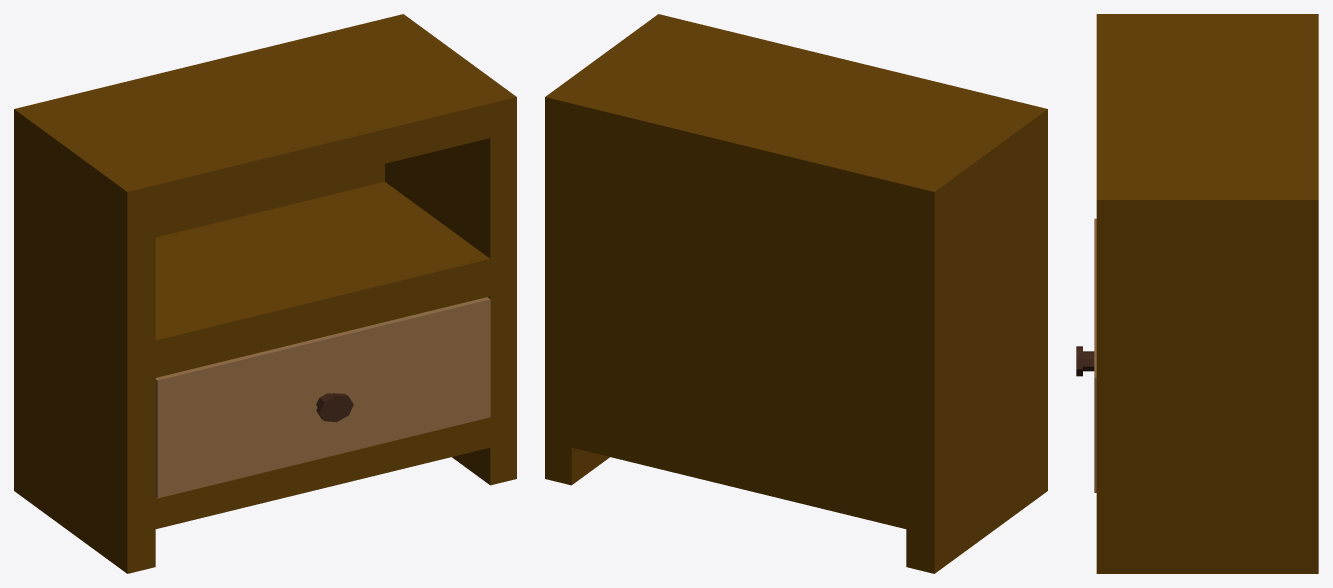
The model's file is H_Cabinet_2.fbx.
The picture shows the model from 3 angles, left to right: view 1: azimuth 30°, elevation 25°; view 2: azimuth 150°, elevation 25°; view 3: azimuth 270°, elevation 25°; orthographic projection. The views are drawn at different scales.
Visible parts, largest first — view 1: H_Cabinet_2; view 2: H_Cabinet_2; view 3: H_Cabinet_2.
Boxes of the visible parts, x1,y1,x2,y2 form: H_Cabinet_2: (14,14,516,573); H_Cabinet_2: (545,14,1047,573); H_Cabinet_2: (1076,14,1318,573).
Bounding box in the file's own units: 471 × 259 × 441.
